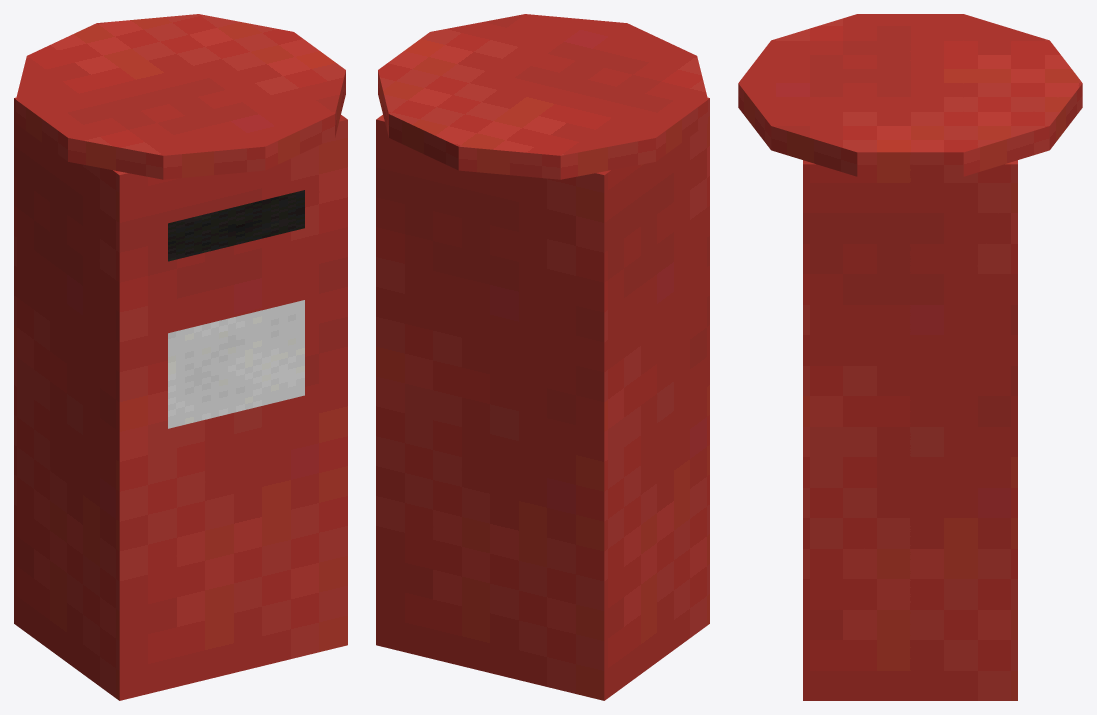
Rendered from buzon.obj.
3 views of the same model, side by side, from view 1: azimuth 30°, elevation 25°; view 2: azimuth 150°, elevation 25°; view 3: azimuth 270°, elevation 25° (orthographic). The views are drawn at different scales.
Parts seen in each view (by area): view 1: buzon; view 2: buzon; view 3: buzon.
Boxes of the visible parts, x1,y1,x2,y2 form: buzon: [14, 14, 347, 700]; buzon: [376, 14, 709, 700]; buzon: [738, 14, 1082, 700].
Size of the model in its own units: 0.6087 by 1.15 by 0.64.
Materials: 3 (3 with a texture image).
